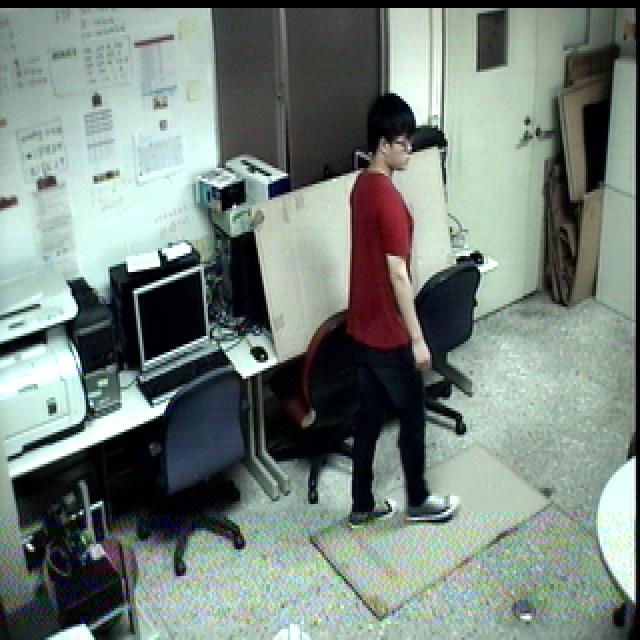stand: (336, 78, 467, 537)
